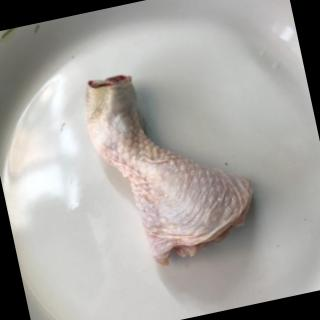Ayam: (75, 51, 267, 278)
